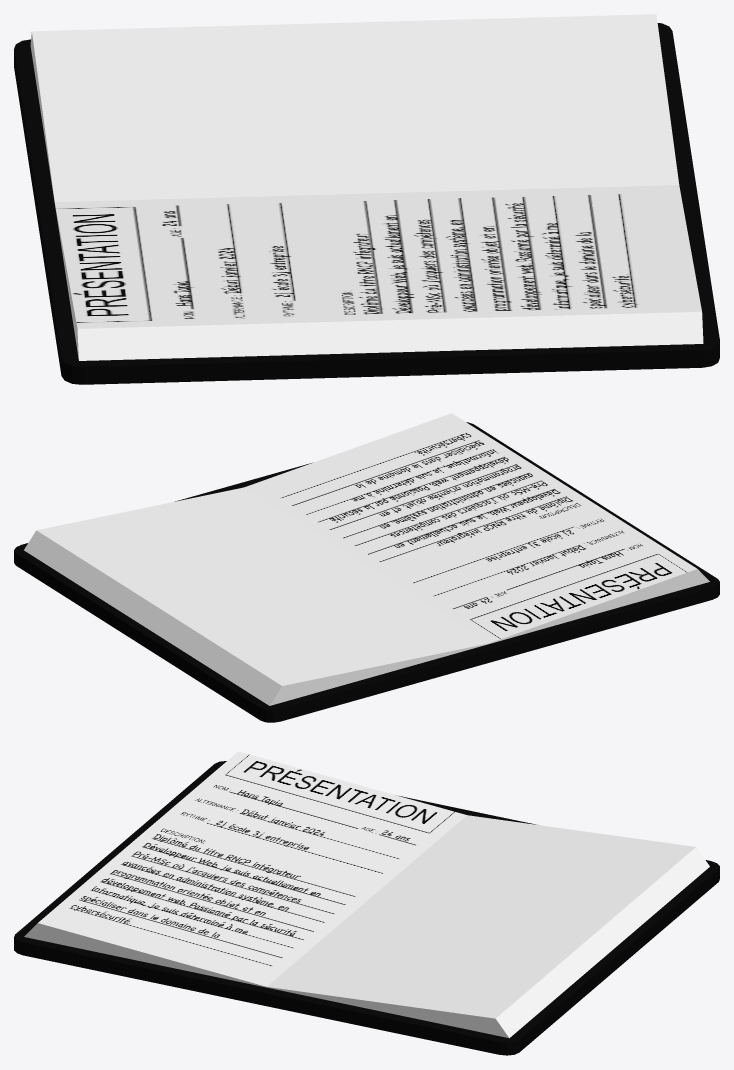
File: noteBook.gltf
3 views of the same model, one above another, from view 1: azimuth 30°, elevation 25°; view 2: azimuth 150°, elevation 25°; view 3: azimuth 270°, elevation 25° (orthographic). The views are drawn at different scales.
Parts seen in each view (by area): view 1: noteBook, noteBook.001; view 2: noteBook, noteBook.001; view 3: noteBook, noteBook.001.
Part boxes in pixels (<box>): noteBook: <box>14,14,719,384</box>; noteBook.001: <box>54,185,701,328</box>; noteBook: <box>14,422,719,722</box>; noteBook.001: <box>244,413,696,642</box>; noteBook: <box>14,761,719,1055</box>; noteBook.001: <box>38,751,466,986</box>.
Size of the model in its own units: 0.6782 by 0.0333 by 0.7178.
3 materials, 1 textured.
